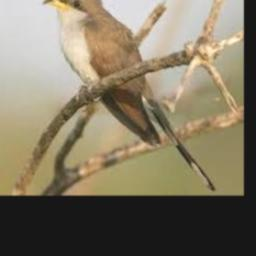Cuckoo: (43, 0, 215, 191)
